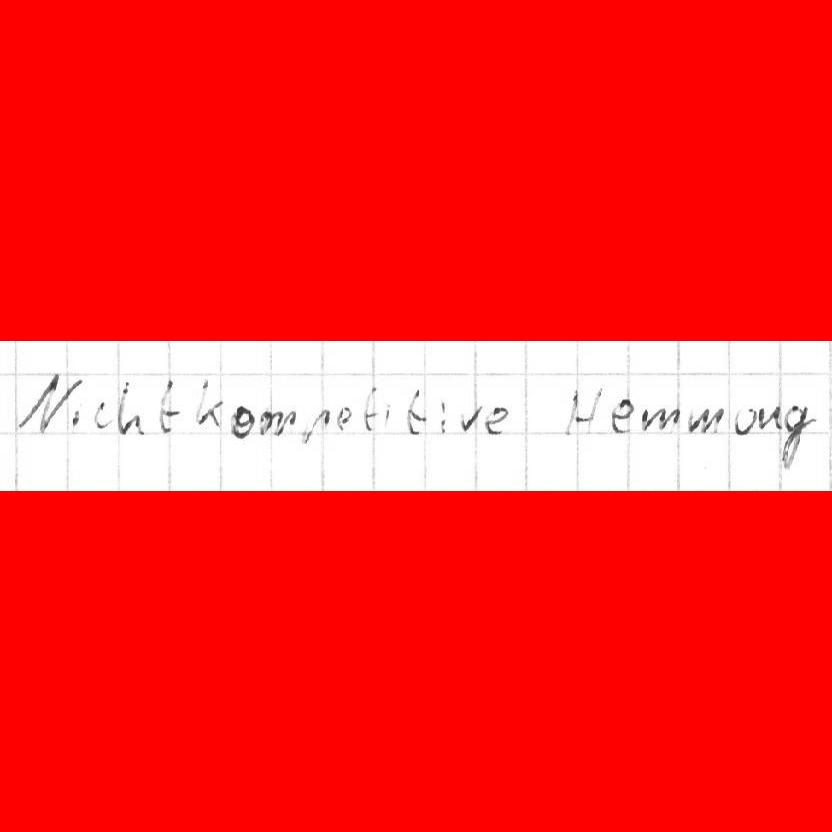Char: (18, 372, 79, 435), (780, 402, 814, 470), (116, 377, 144, 438), (564, 388, 601, 431), (195, 376, 223, 430), (158, 379, 180, 435), (301, 407, 329, 446), (640, 405, 677, 434), (688, 405, 723, 435), (362, 385, 383, 431), (406, 388, 427, 434), (229, 403, 254, 440), (258, 407, 288, 436), (610, 396, 633, 432), (485, 404, 508, 437), (756, 403, 783, 431), (733, 407, 758, 435), (460, 404, 481, 433), (93, 397, 111, 430), (68, 402, 82, 435), (337, 405, 353, 431), (439, 400, 450, 434), (382, 399, 391, 430)
